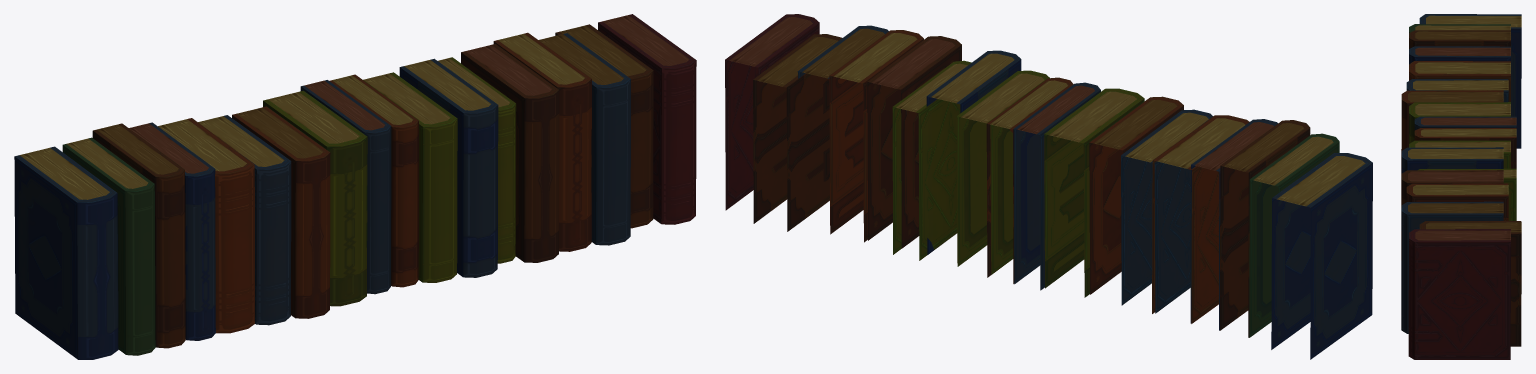
File: BookGroup_Medium_2.gltf
The picture shows the model from 3 angles, left to right: view 1: azimuth 30°, elevation 25°; view 2: azimuth 150°, elevation 25°; view 3: azimuth 270°, elevation 25°; orthographic projection. The views are drawn at different scales.
Parts seen in each view (by area): view 1: BookGroup_Medium_2; view 2: BookGroup_Medium_2; view 3: BookGroup_Medium_2.
Boxes of the visible parts, <box> form: BookGroup_Medium_2: <box>14,14,696,359</box>; BookGroup_Medium_2: <box>725,14,1372,359</box>; BookGroup_Medium_2: <box>1401,14,1521,359</box>.
Size of the model in its own units: 1.1 by 0.2949 by 0.2475.
Materials: 1 (1 with a texture image).
